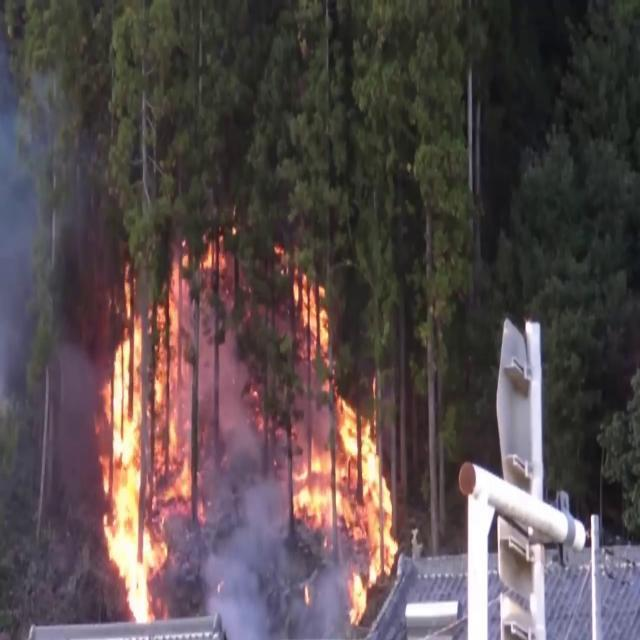Fire: (274, 267, 401, 607), (94, 262, 208, 623)
Smoke: (0, 6, 90, 459), (181, 420, 328, 634)
